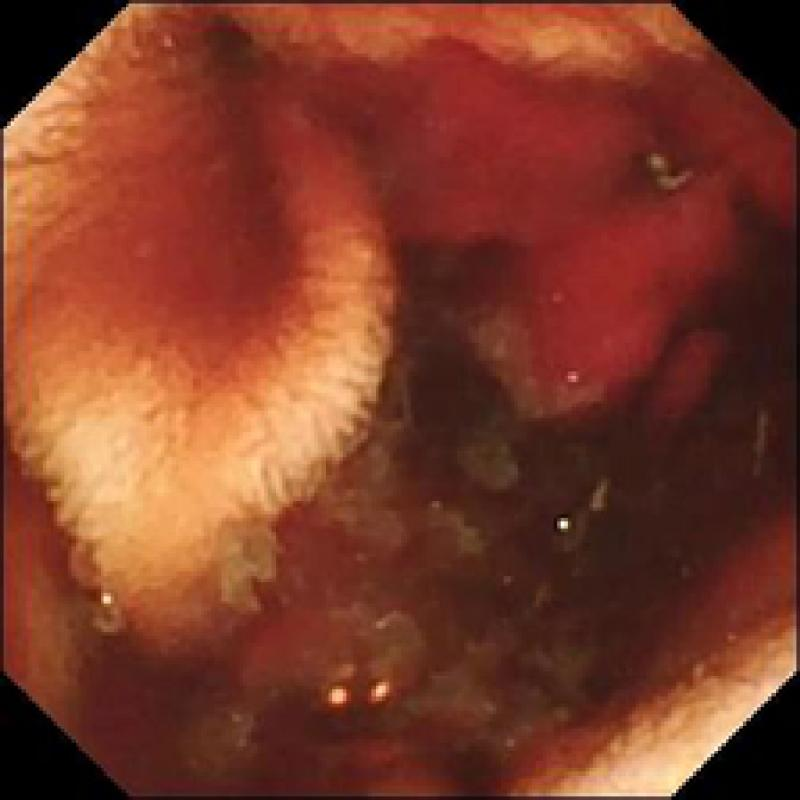bleeding: (293, 35, 800, 428)
